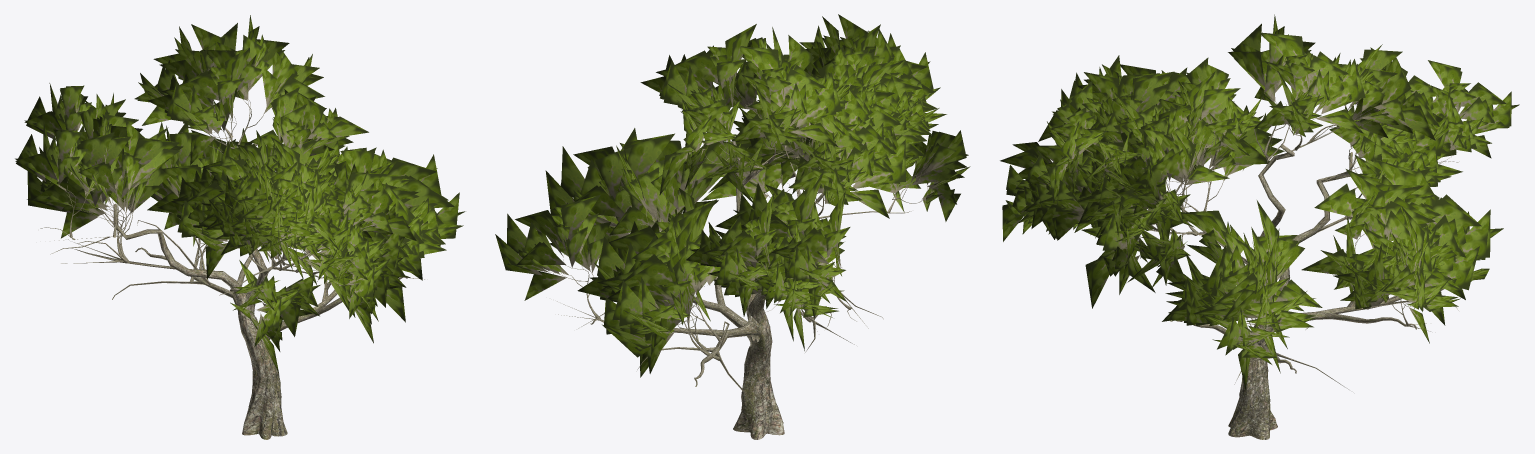
The model's file is oak0.obj.
3 views of the same model, side by side, from view 1: azimuth 30°, elevation 25°; view 2: azimuth 150°, elevation 25°; view 3: azimuth 270°, elevation 25° (orthographic). The views are drawn at different scales.
Visible parts, largest first — view 1: oak leaf, mossybark03; view 2: oak leaf, mossybark03; view 3: oak leaf, mossybark03.
Boxes of the visible parts, x1=… form: oak leaf: x1=15, y1=15, x2=465, y2=372; mossybark03: x1=40, y1=83, x2=424, y2=439; oak leaf: x1=495, y1=14, x2=970, y2=377; mossybark03: x1=550, y1=85, x2=934, y2=439; oak leaf: x1=1000, y1=14, x2=1519, y2=390; mossybark03: x1=1078, y1=79, x2=1458, y2=439.
Size of the model in its own units: 838 by 839 by 995.
2 materials, 2 textured.
